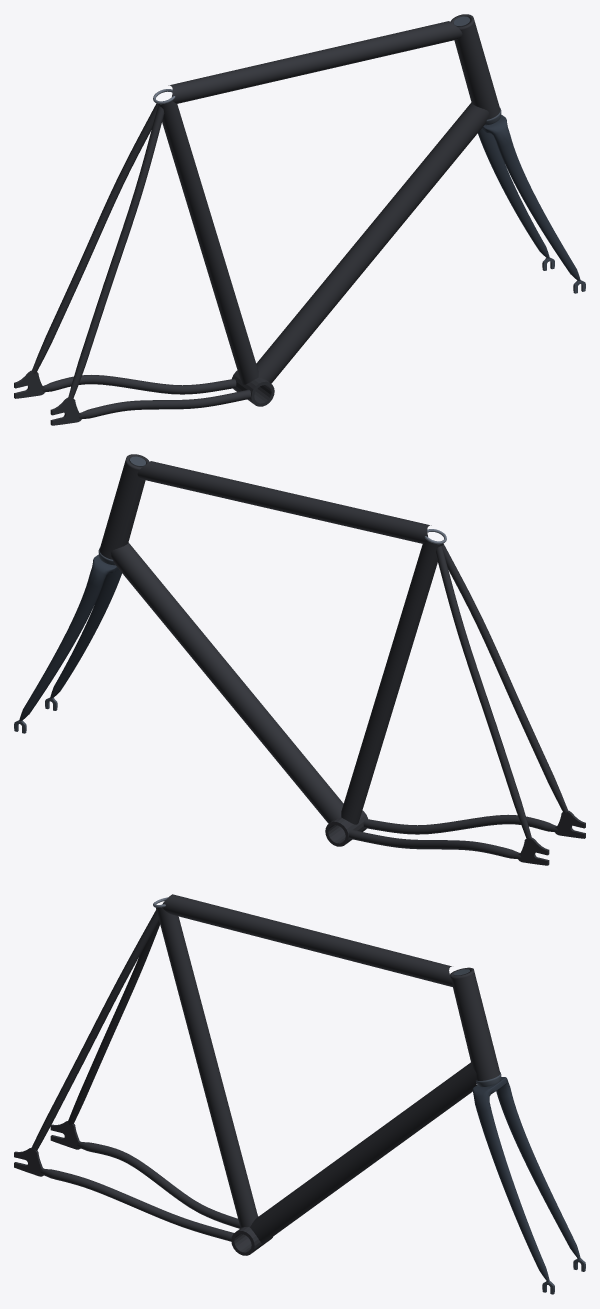
File: state-black-label-v3-61.glb
The picture shows the model from 3 angles, top to bottom: view 1: azimuth 30°, elevation 25°; view 2: azimuth 150°, elevation 25°; view 3: azimuth 330°, elevation 25°; orthographic projection.
Parts seen in each view (by area): view 1: paint_down, paint_top, paint_seat, paint_seatstay_1, paint_seatstay_-1, paint_head, fork_blade_1, paint_chainstay_-1, paint_chainstay_1, fork_blade_-1, paint_bottom_bracket, rear_dropout_1 (+1 smaller); view 2: paint_down, paint_top, paint_seat, paint_seatstay_-1, paint_seatstay_1, paint_head, fork_blade_-1, paint_chainstay_1, paint_chainstay_-1, fork_blade_1, paint_bottom_bracket, rear_dropout_-1 (+1 smaller); view 3: paint_down, paint_seat, paint_top, paint_head, paint_seatstay_1, fork_blade_1, fork_blade_-1, paint_chainstay_1, paint_chainstay_-1, paint_seatstay_-1, paint_bottom_bracket, rear_dropout_-1 (+1 smaller).
Part boxes in pixels (x1,y1,x2,y2): paint_down: (256,102,488,383); paint_top: (168,21,462,103); paint_seat: (156,100,258,384); paint_seatstay_1: (68,106,164,398); paint_seatstay_-1: (31,104,157,373); paint_head: (450,14,500,119); fork_blade_1: (496,135,580,281); paint_chainstay_-1: (42,375,236,394); paint_chainstay_1: (78,389,250,418); fork_blade_-1: (478,129,549,258); paint_bottom_bracket: (232,370,274,406); rear_dropout_1: (50,397,81,425); paint_down: (111,542,343,823); paint_top: (137,461,431,543); paint_seat: (341,540,443,824); paint_seatstay_-1: (435,546,531,838); paint_seatstay_1: (442,544,568,813); paint_head: (99,454,149,559); fork_blade_-1: (19,575,103,721); paint_chainstay_1: (363,814,557,834); paint_chainstay_-1: (349,829,521,858); fork_blade_1: (50,569,121,698); paint_bottom_bracket: (325,810,367,846); rear_dropout_-1: (518,837,549,865); paint_down: (250,1062,476,1243); paint_seat: (156,907,257,1227); paint_top: (162,894,452,986); paint_head: (450,967,500,1080); paint_seatstay_1: (31,910,158,1150); fork_blade_1: (475,1103,549,1281); fork_blade_-1: (496,1088,580,1259); paint_chainstay_1: (40,1168,233,1241); paint_chainstay_-1: (77,1141,240,1228); paint_seatstay_-1: (68,921,159,1124); paint_bottom_bracket: (231,1216,272,1255); rear_dropout_-1: (50,1121,80,1149).
Size of the model in its own units: 1.05 by 0.6247 by 0.1438.
